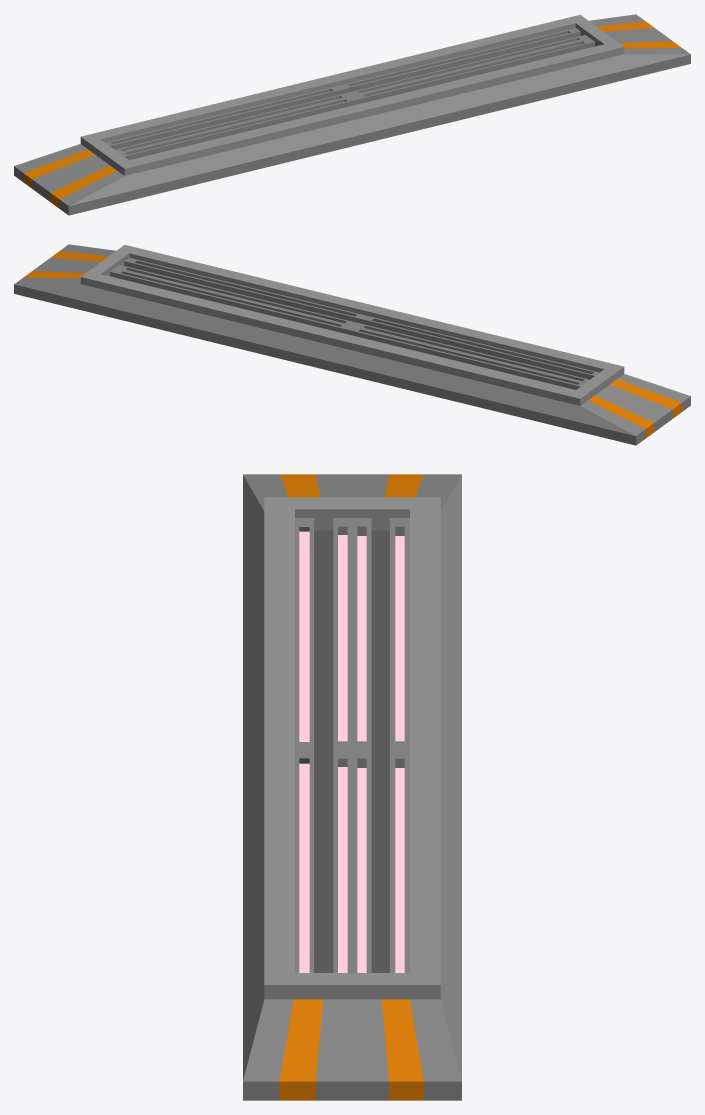
The model's file is FireTrap.fbx.
3 views of the same model, one above another, from view 1: azimuth 30°, elevation 25°; view 2: azimuth 150°, elevation 25°; view 3: azimuth 270°, elevation 25° (orthographic). The views are drawn at different scales.
Visible parts, largest first — view 1: Cube; view 2: Cube; view 3: Cube.
Part boxes in pixels (x1,y1,x2,y2): Cube: [14, 14, 690, 215]; Cube: [14, 244, 690, 445]; Cube: [243, 474, 461, 1100].
Size of the model in its own units: 1311 by 56.2 by 200.
